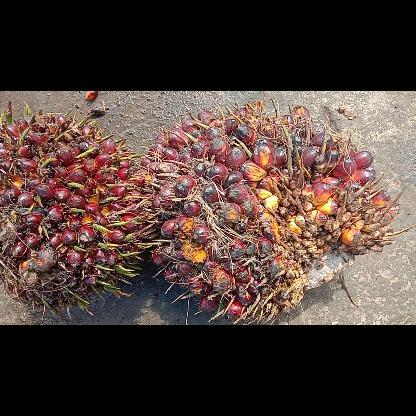Kurang masak: (0, 100, 158, 318)
TBS masak: (141, 100, 410, 324)
